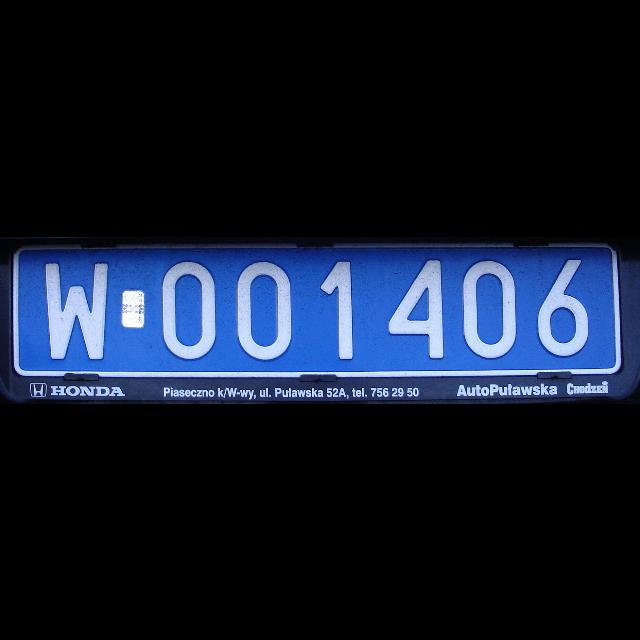pl_license_plate: (15, 248, 619, 374)
